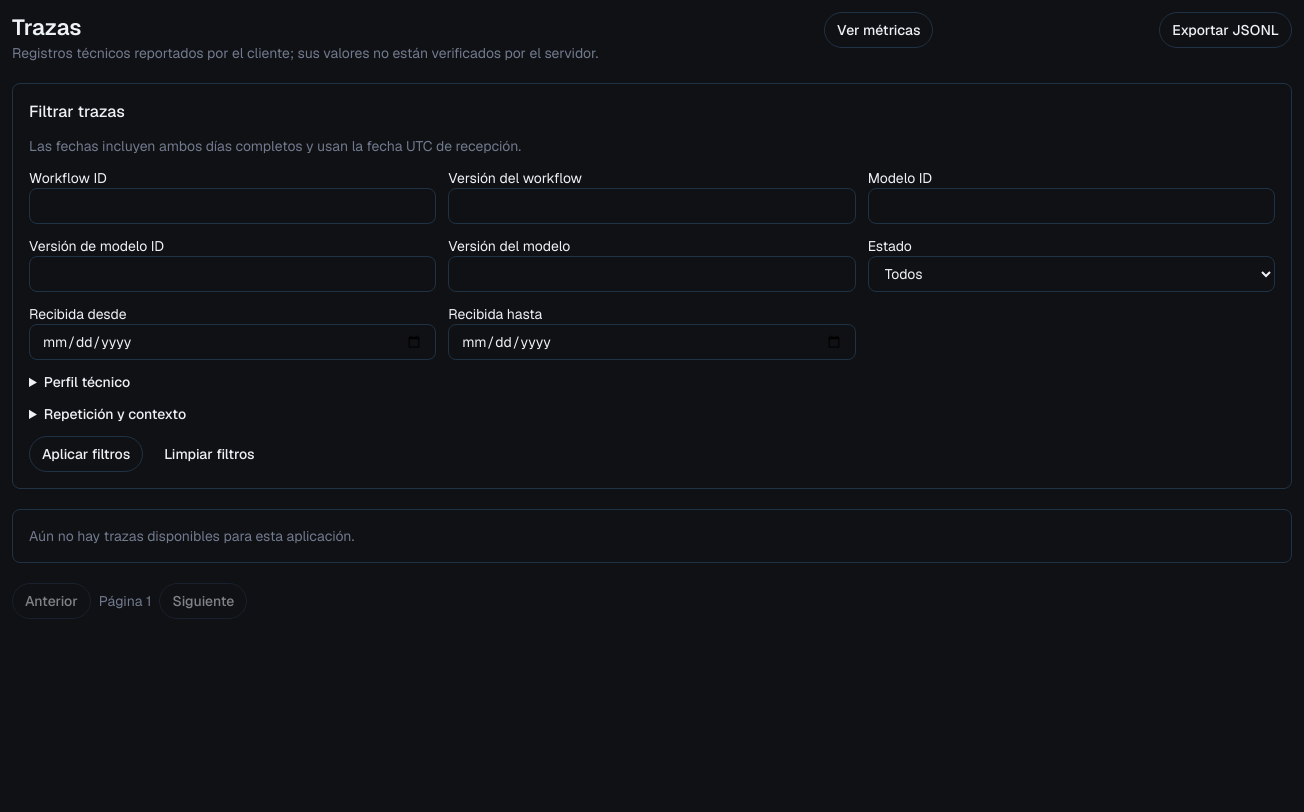
Scenario: ApplicationTracesView › distinguishes an empty application from filters with no matches
This screenshot has width=1304, height=812.
expect the text "Aún no hay trazas disponibles para esta aplicación." is shown: met, box [12,509,1292,563]
Type "missing-workflow" into the field labelled "Workflow ID".
click(233, 206); type("missing-workflow")  # box [29,188,436,224]
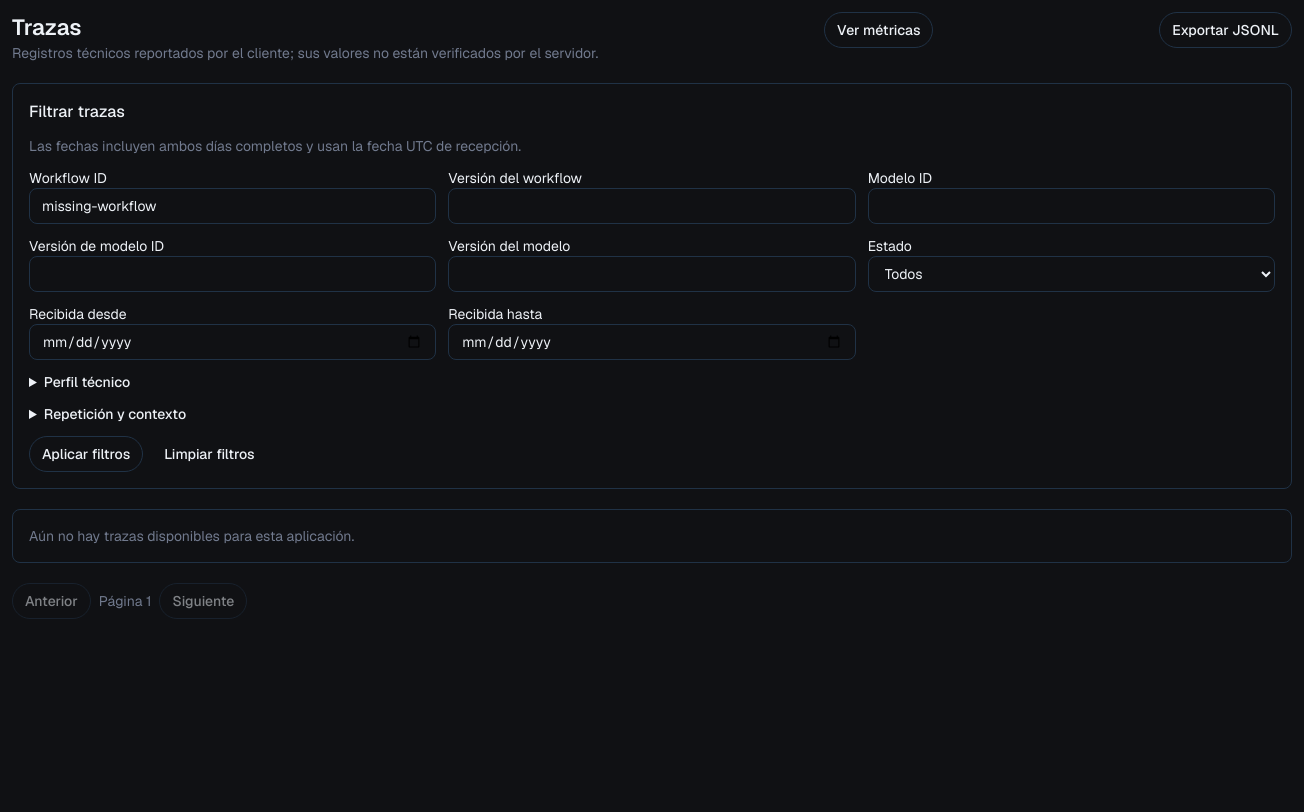
Click the button "Aplicar filtros".
click(86, 454)  # box [29,436,143,472]
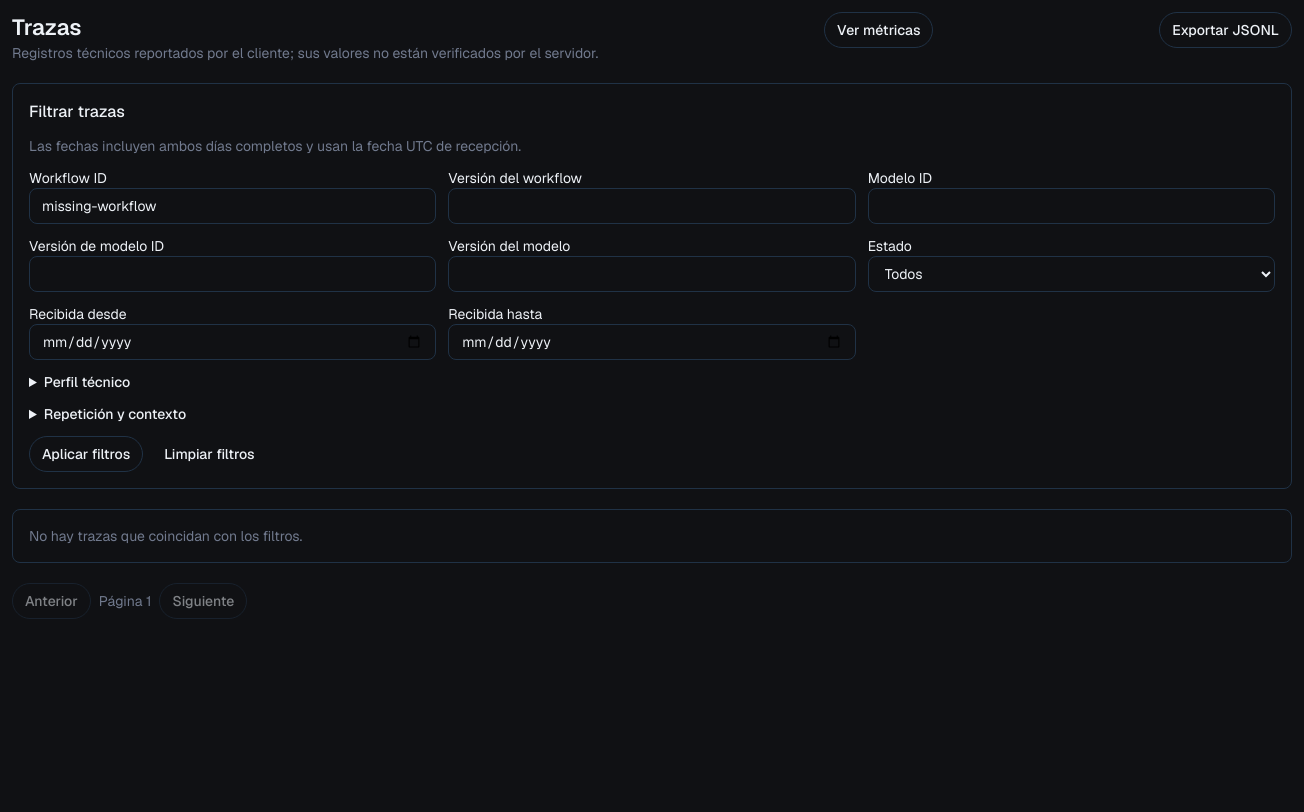
expect the text "No hay trazas que coincidan con los filtros." is shown: met, box [12,509,1292,563]
expect the text "Aún no hay trazas disponibles para esta aplicación." is gone: met
